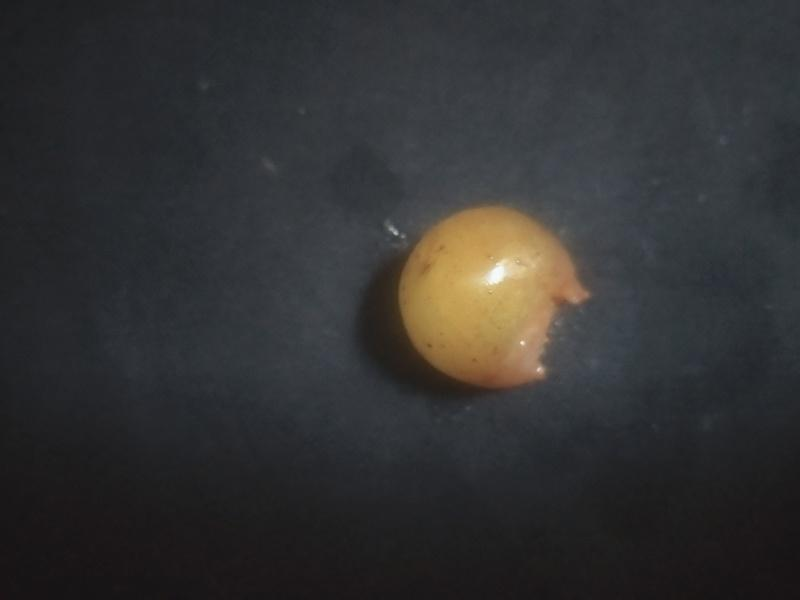Grape Overripe: (397, 202, 592, 393)
